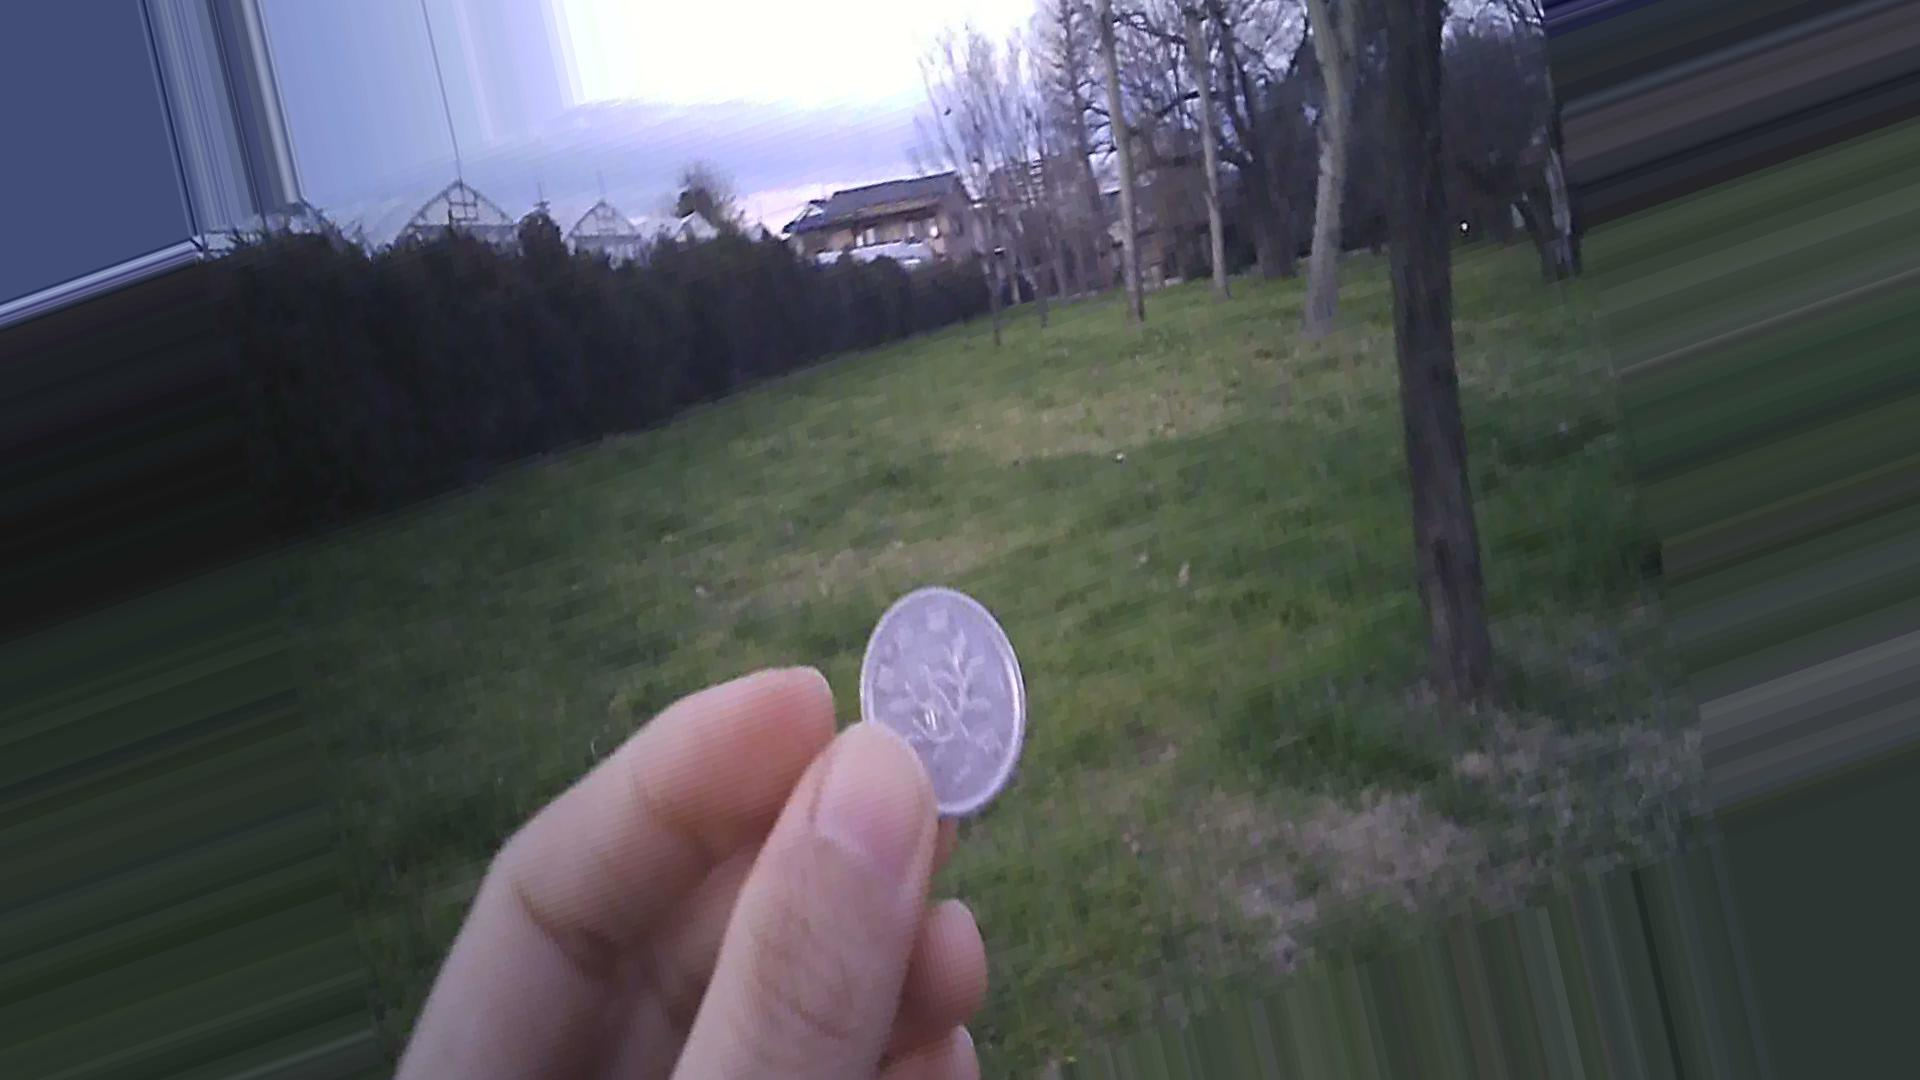1 Yen: (843, 583, 1021, 844)
